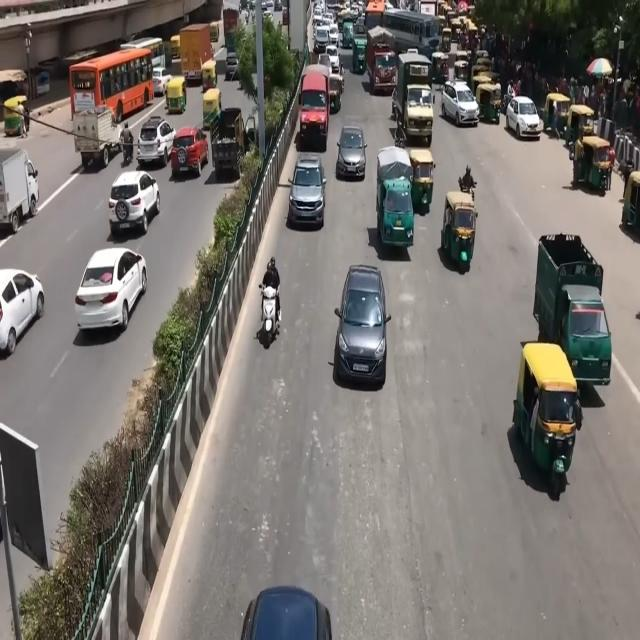auto: (513, 342, 580, 493), (441, 188, 478, 272), (574, 135, 614, 194), (408, 147, 434, 211), (544, 91, 571, 136), (566, 103, 594, 146), (476, 81, 502, 126), (202, 88, 222, 130), (165, 76, 187, 114), (471, 70, 493, 101), (200, 58, 218, 94), (431, 51, 450, 84), (453, 58, 470, 82), (450, 17, 463, 43), (440, 26, 452, 52)
bike-auto: (250, 256, 290, 360), (458, 165, 477, 198), (120, 122, 134, 166), (261, 298, 278, 329), (394, 124, 407, 147)
